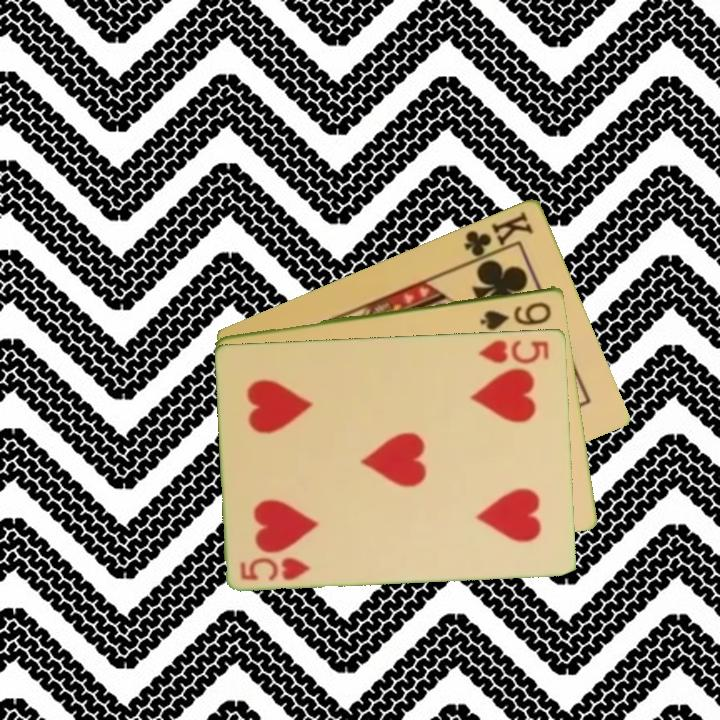5h: (475, 336, 553, 367), (237, 553, 313, 583)
9s: (476, 298, 554, 333)
Kc: (460, 207, 537, 265)
